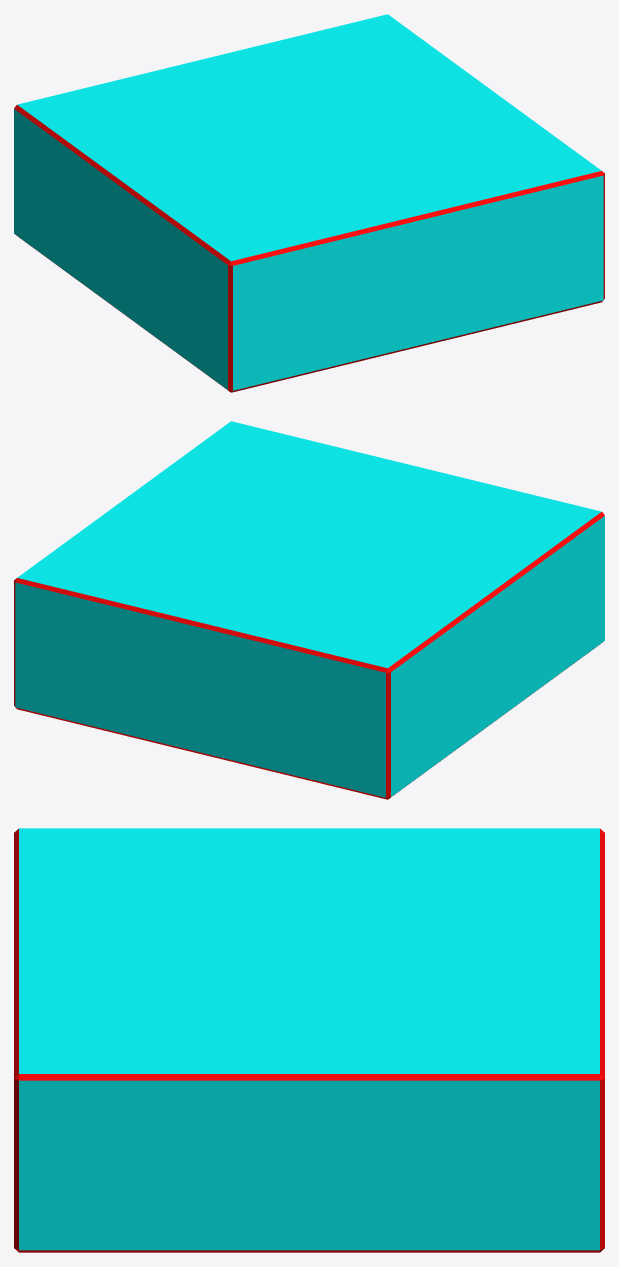
File: L15_Platform.fbx
3 renders of one model, top to bottom at view 1: azimuth 30°, elevation 25°; view 2: azimuth 150°, elevation 25°; view 3: azimuth 270°, elevation 25°, orthographic. The views are drawn at different scales.
Visible parts, largest first — view 1: L15_Platform; view 2: L15_Platform; view 3: L15_Platform.
Part boxes in pixels (x1,y1,x2,y2): L15_Platform: (14,14,604,392); L15_Platform: (14,421,604,799); L15_Platform: (14,828,604,1252).
Size of the model in its own units: 600 by 200 by 600.
